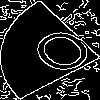O: (25, 25, 100, 85)
